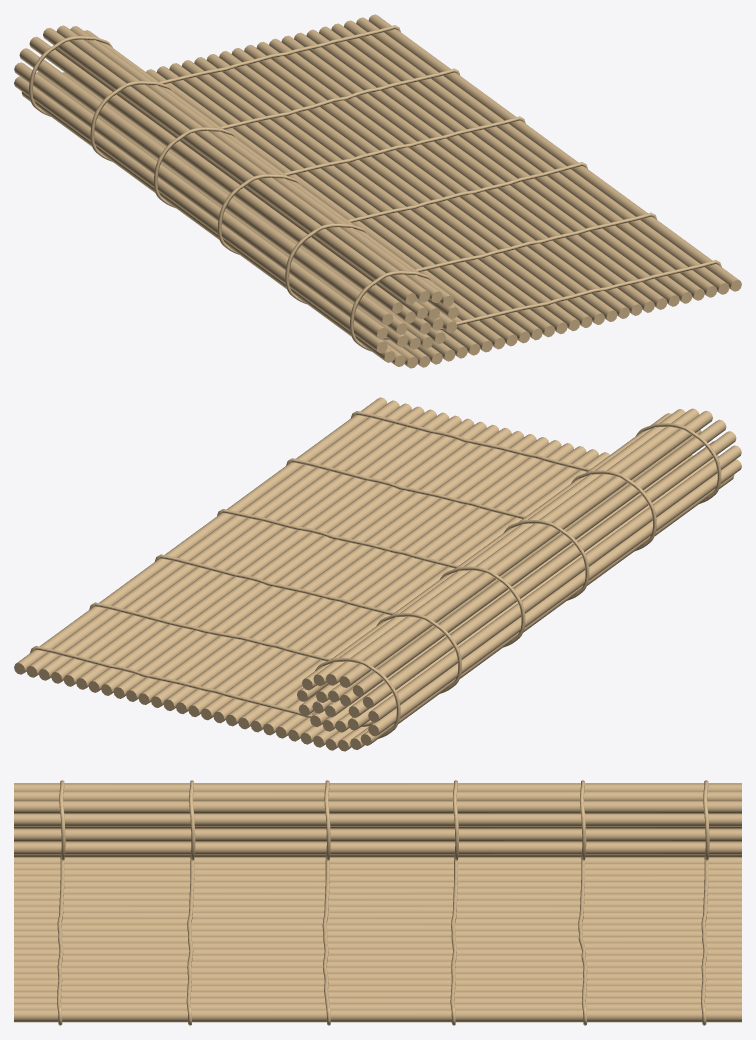
The model's file is BambooMat_Rolled.fbx.
The picture shows the model from 3 angles, top to bottom: view 1: azimuth 30°, elevation 25°; view 2: azimuth 150°, elevation 25°; view 3: azimuth 270°, elevation 25°; orthographic projection.
Parts seen in each view (by area): view 1: BambooMat9; view 2: BambooMat9; view 3: BambooMat9.
Boxes of the visible parts, <box> form: BambooMat9: <box>14,14,741,368</box>; BambooMat9: <box>14,397,741,751</box>; BambooMat9: <box>14,780,741,1025</box>.
Size of the model in its own units: 13.38 by 2.85 by 22.67.
